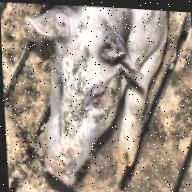boar: (22, 1, 178, 192)
